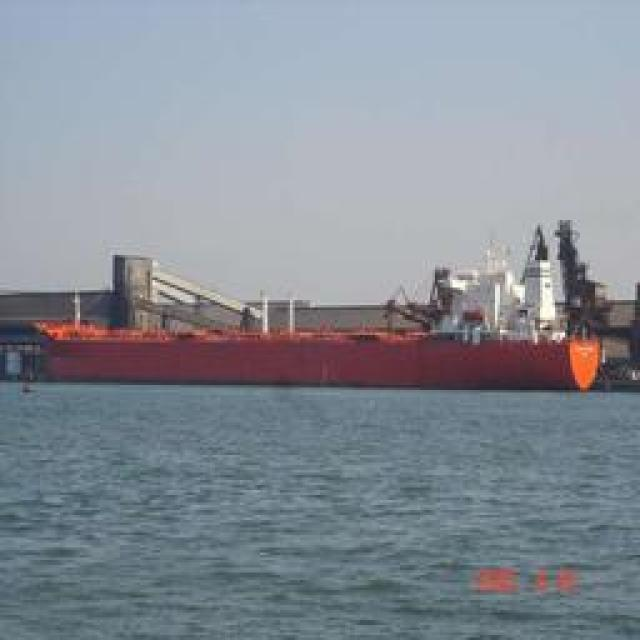ship2: (15, 217, 602, 391)
